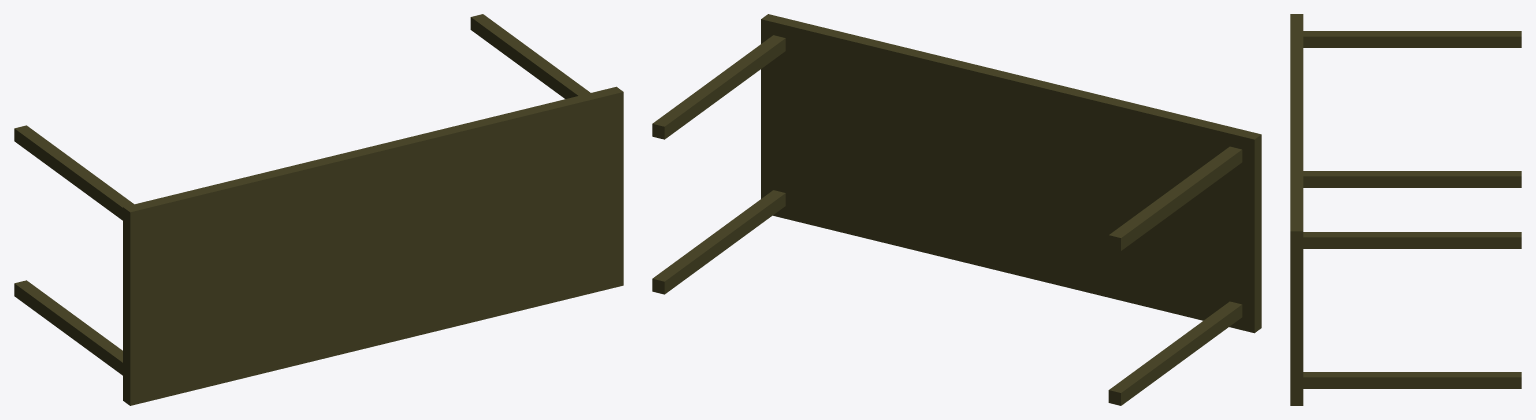
The model's file is Table.fbx.
The picture shows the model from 3 angles, left to right: view 1: azimuth 30°, elevation 25°; view 2: azimuth 150°, elevation 25°; view 3: azimuth 270°, elevation 25°; orthographic projection. The views are drawn at different scales.
Visible parts, largest first — view 1: mesh4, mesh3, mesh0, mesh7, mesh11, mesh19, mesh12, mesh16, mesh8; view 2: mesh5, mesh3, mesh7, mesh19, mesh11, mesh23, mesh0, mesh24, mesh8, mesh16, mesh12; view 3: mesh3, mesh9, mesh13, mesh17, mesh21, mesh2, mesh8, mesh12, mesh16, mesh24.
Boxes of the visible parts, bbox=[...] form: mesh4: bbox=[130, 92, 623, 405]; mesh3: bbox=[123, 86, 623, 212]; mesh0: bbox=[123, 207, 130, 405]; mesh7: bbox=[14, 283, 122, 375]; mesh11: bbox=[14, 128, 122, 220]; mesh19: bbox=[470, 17, 577, 98]; mesh12: bbox=[14, 125, 133, 207]; mesh16: bbox=[471, 14, 590, 95]; mesh8: bbox=[15, 280, 122, 362]; mesh5: bbox=[761, 19, 1254, 333]; mesh3: bbox=[761, 14, 1261, 139]; mesh7: bbox=[1121, 304, 1242, 405]; mesh19: bbox=[664, 38, 785, 139]; mesh11: bbox=[1121, 150, 1242, 250]; mesh23: bbox=[664, 193, 785, 293]; mesh0: bbox=[1254, 134, 1261, 332]; mesh24: bbox=[653, 190, 785, 281]; mesh8: bbox=[1109, 301, 1241, 392]; mesh16: bbox=[652, 35, 785, 126]; mesh12: bbox=[1109, 146, 1241, 237]; mesh3: bbox=[1290, 14, 1303, 231]; mesh9: bbox=[1303, 176, 1521, 187]; mesh13: bbox=[1303, 36, 1521, 47]; mesh17: bbox=[1303, 237, 1521, 248]; mesh21: bbox=[1303, 377, 1521, 388]; mesh2: bbox=[1290, 231, 1303, 405]; mesh8: bbox=[1303, 171, 1521, 176]; mesh12: bbox=[1303, 31, 1521, 36]; mesh16: bbox=[1303, 232, 1521, 237]; mesh24: bbox=[1303, 372, 1521, 377].
Bounding box in the file's own units: 2 × 0.75 × 0.9.
